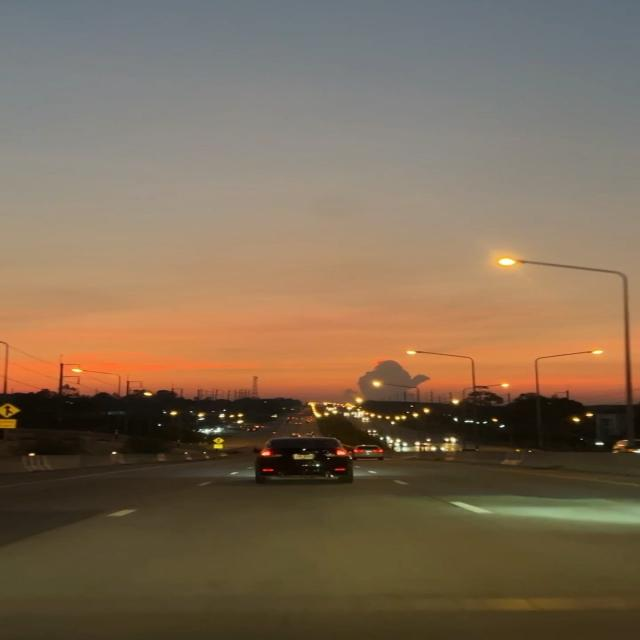Poth-hole: (58, 484, 640, 632)
